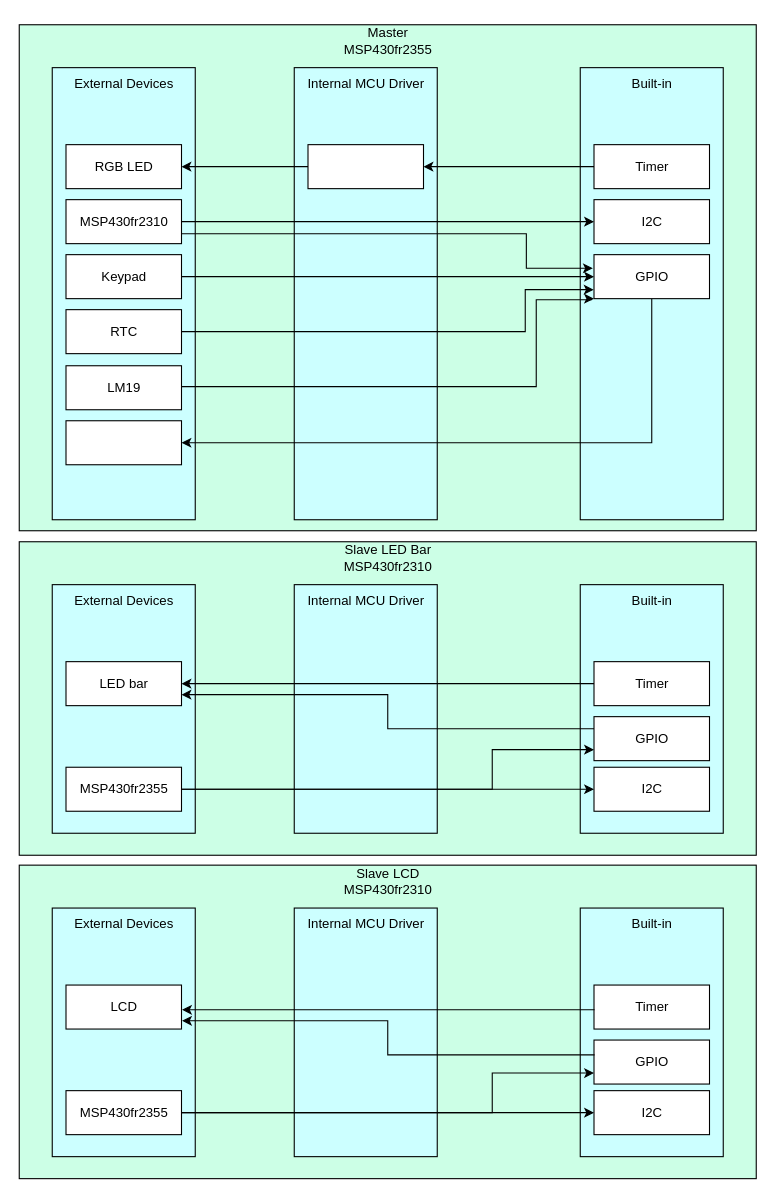
The diagram is 776 pixels wide and 1198 high, and some of its shapes have lost their labels. Here are the shapes that lost their labels. From the top down, the box of each, then its label:
(307, 144, 424, 189): PWM
(65, 420, 182, 465): LM92
